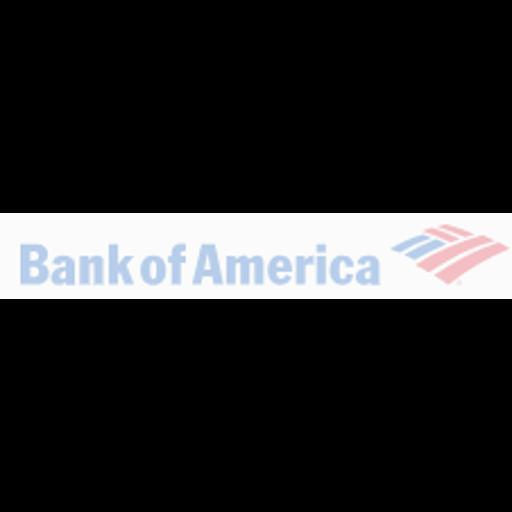Bank of America: (0, 213, 512, 299)
